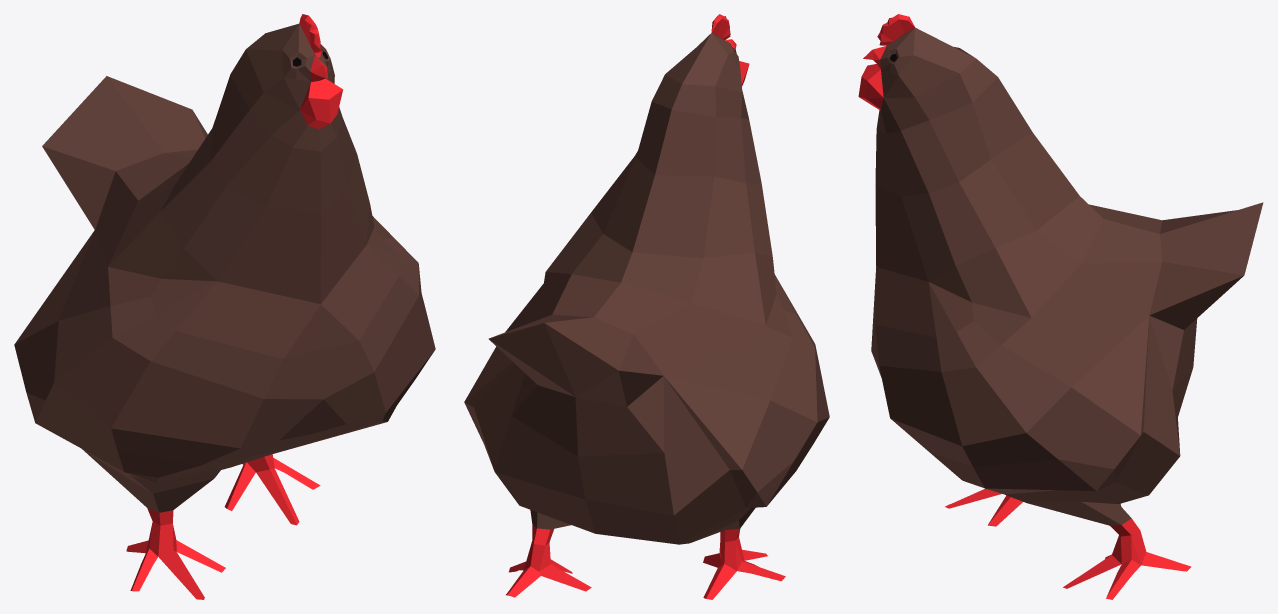
The model's file is Hen_2.FBX.
The picture shows the model from 3 angles, left to right: view 1: azimuth 30°, elevation 25°; view 2: azimuth 150°, elevation 25°; view 3: azimuth 270°, elevation 25°; orthographic projection. The views are drawn at different scales.
Parts seen in each view (by area): view 1: Hen_2; view 2: Hen_2; view 3: Hen_2.
Part boxes in pixels (x1=…): Hen_2: x1=14, y1=14, x2=435, y2=599; Hen_2: x1=464, y1=14, x2=829, y2=599; Hen_2: x1=858, y1=14, x2=1263, y2=599.
Bounding box in the file's own units: 0.3983 × 0.6172 × 0.4207.
Materials: 1 (1 with a texture image).
